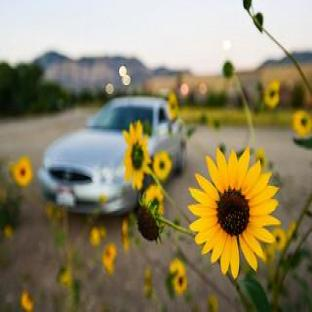sunflower: (188, 148, 281, 280)
